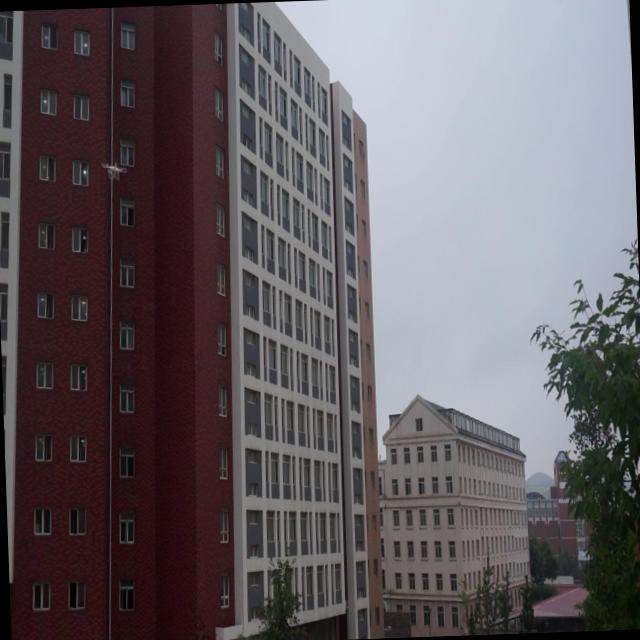drone: (100, 160, 126, 183)
